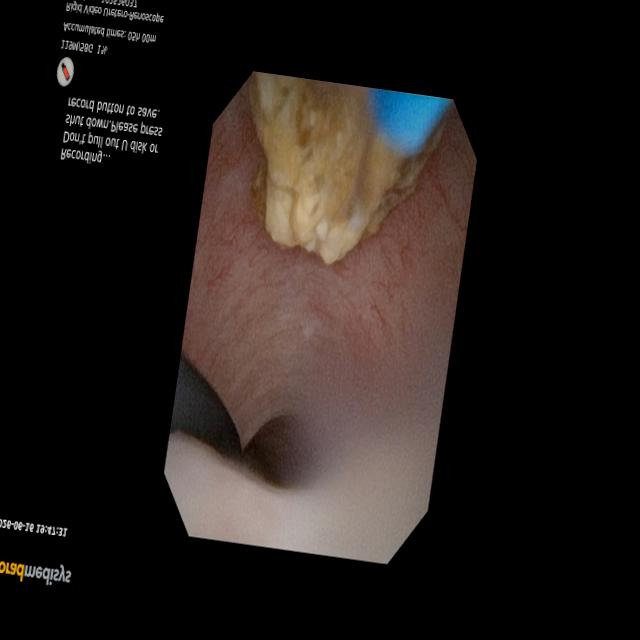laser-fibre: (347, 128, 409, 229)
stone-new: (249, 74, 445, 264)
